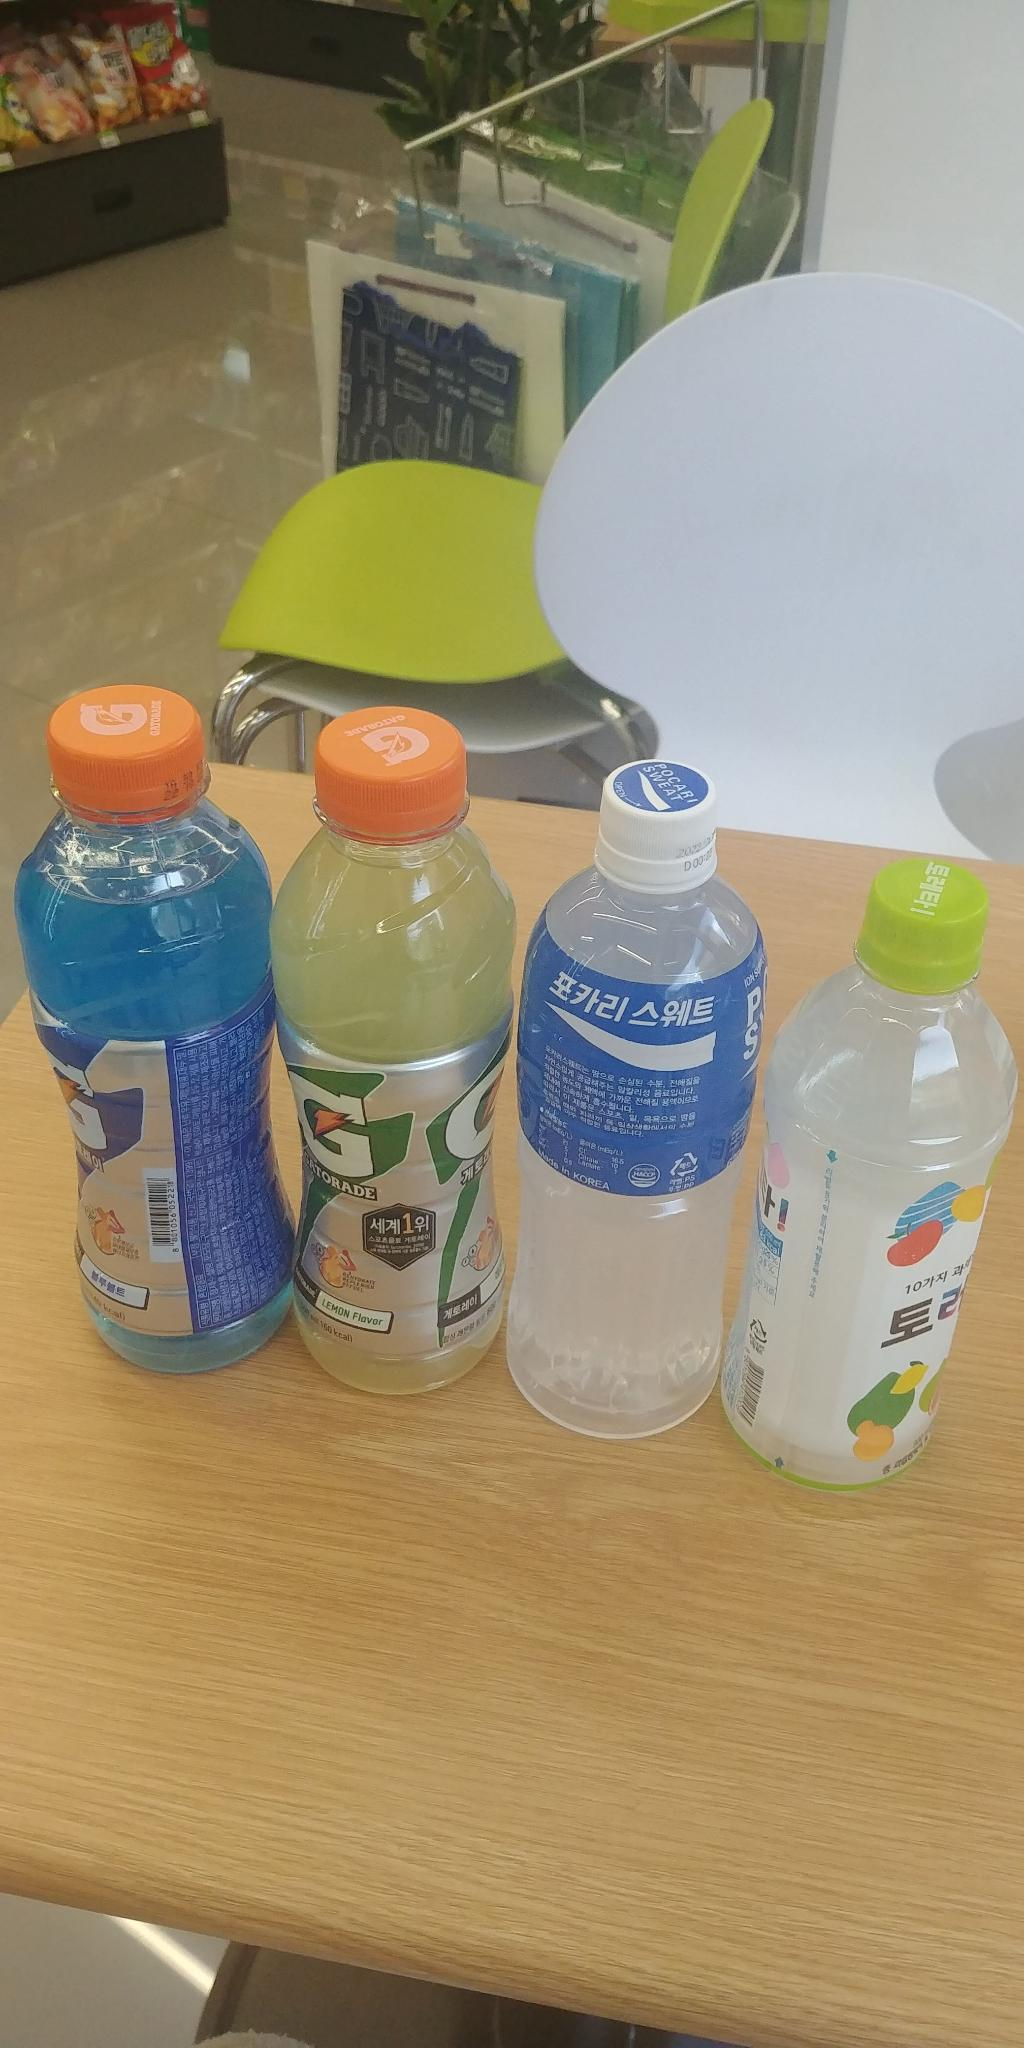gatorade_lemon: (249, 674, 526, 1415)
pocarisweat: (498, 750, 785, 1445)
toreta: (747, 819, 1011, 1493)
